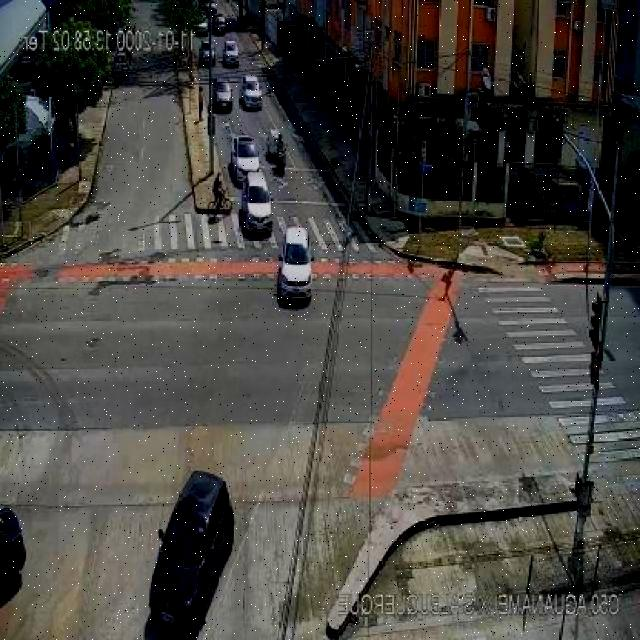Car: (142, 448, 238, 638), (280, 215, 318, 307), (244, 172, 276, 242), (228, 132, 260, 180), (244, 73, 266, 117), (213, 75, 233, 114), (225, 42, 248, 73), (202, 42, 214, 70)
Cycle: (261, 124, 301, 176), (207, 174, 235, 221)
